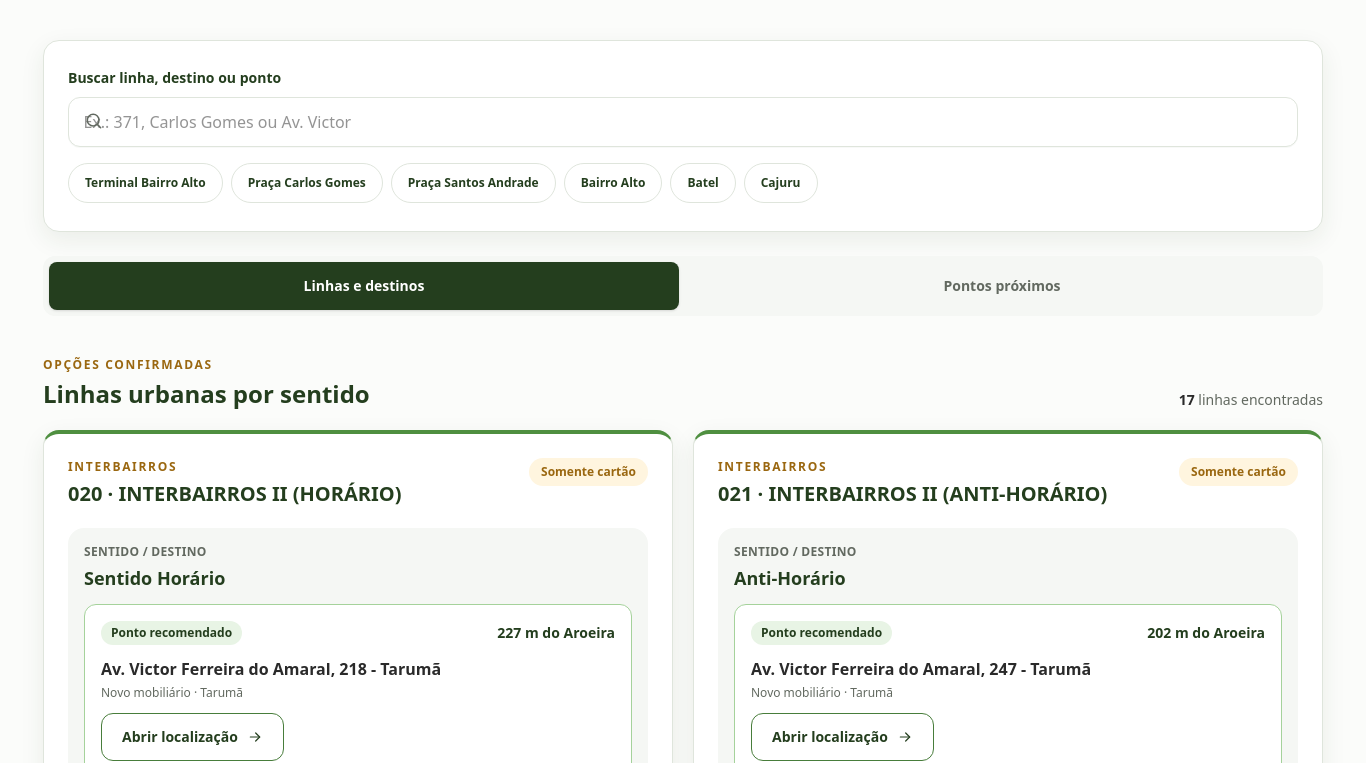
it: TransitExplorer › inicia nos oito pontos mais próximos e permite trocar a faixa
Click the button "Pontos próximos" at coordinates (1002, 286), box x1=687 y1=262 x2=1317 y2=310
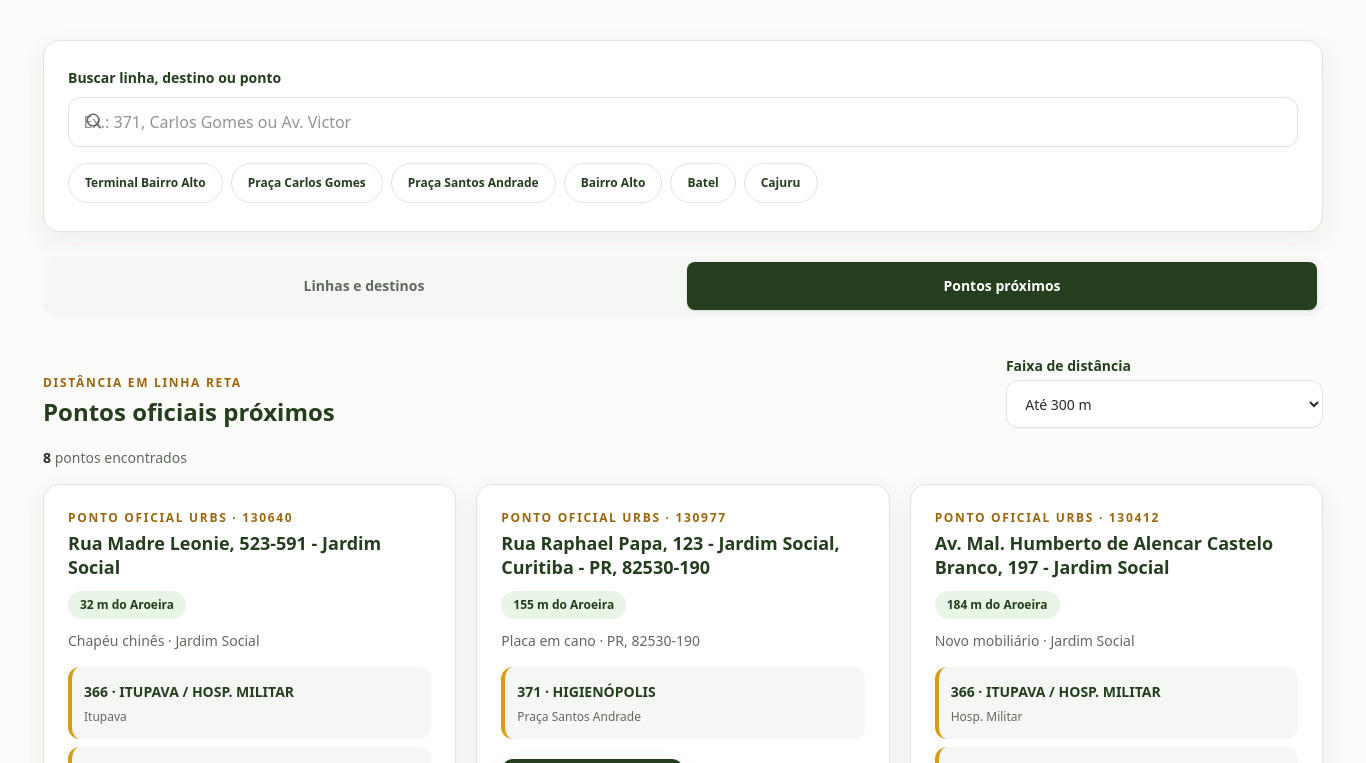
Expected: the message reads "8 pontos encontrados", x1=43 y1=448 x2=187 y2=467
Select "601–1.000 m" in the dropdown labelled "Faixa de distância" at coordinates (1164, 404), box x1=1006 y1=380 x2=1323 y2=428
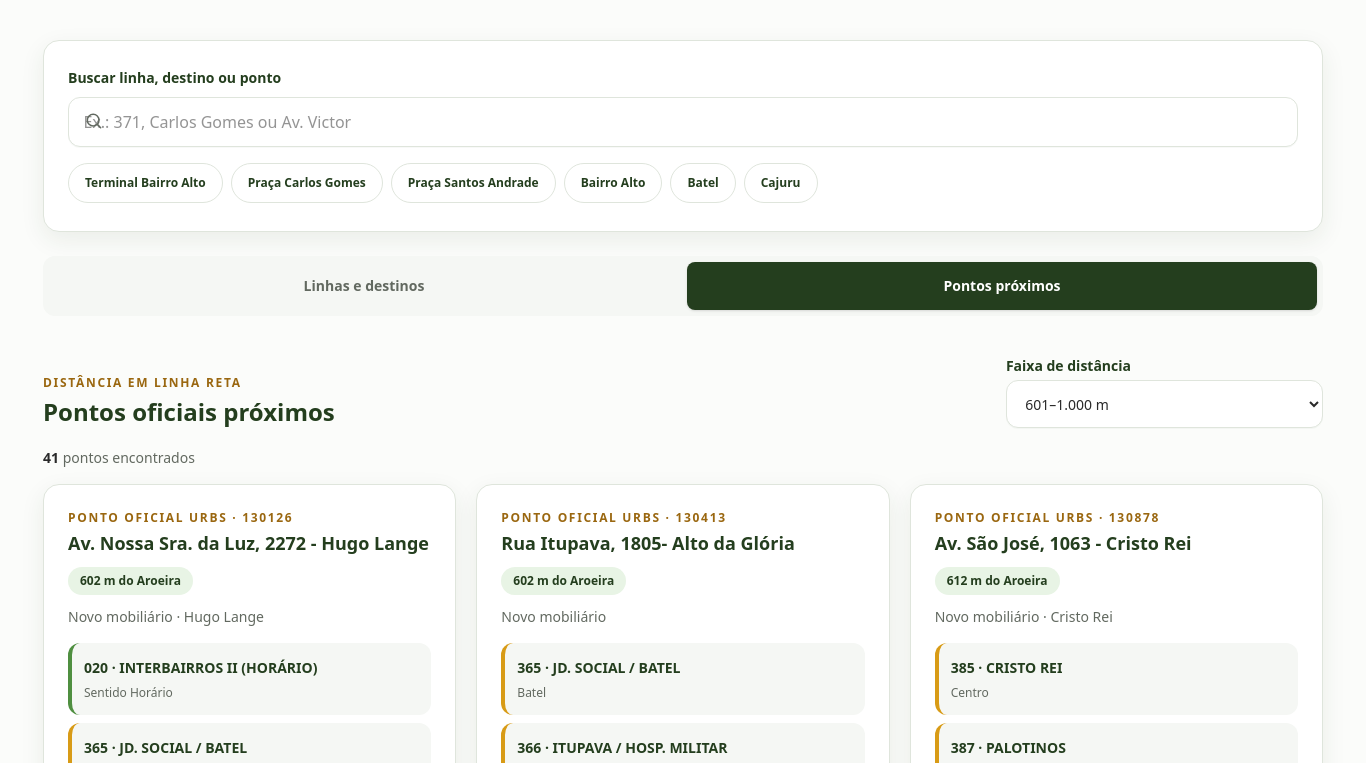
Expected: the message reads "41 pontos encontrados", x1=43 y1=448 x2=195 y2=467
